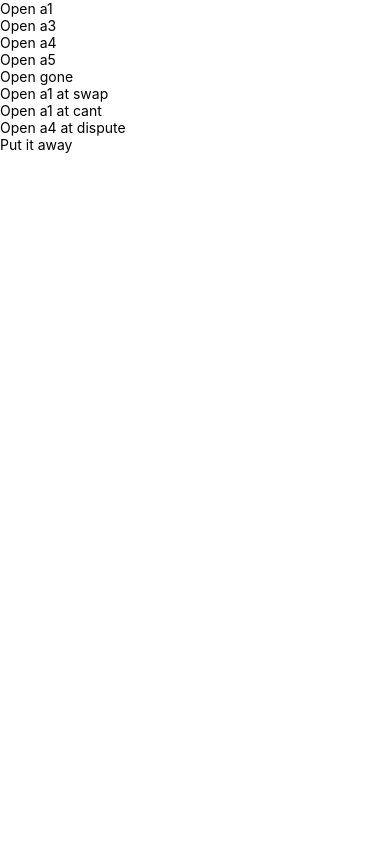
Test: your open John › swapping › offers the housemates' open Johns, and swaps for the one picked
Click the button "Open a1". click: (26, 8)
box: x1=0 y1=0 x2=389 y2=17
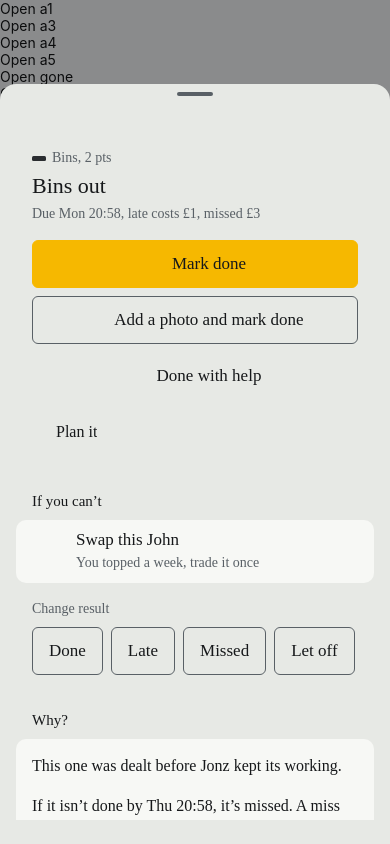
Click the element with test id "swap-row". click: (195, 551)
box: x1=16 y1=519 x2=374 y2=583
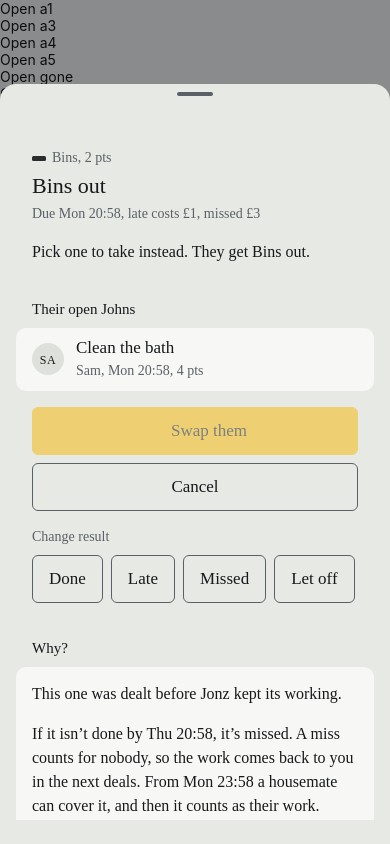
Check: the element named "Their open Johns" is shown
Check: the radio button with aria-label "Clean the bath, Sam, " is not checked
Check: the button with test id "swap-them" is disabled, box x1=32 y1=407 x2=358 y2=455
Click the radio button with aria-label "Clean the bath, Sam, ". click: (118, 358)
box: x1=32 y1=338 x2=204 y2=378
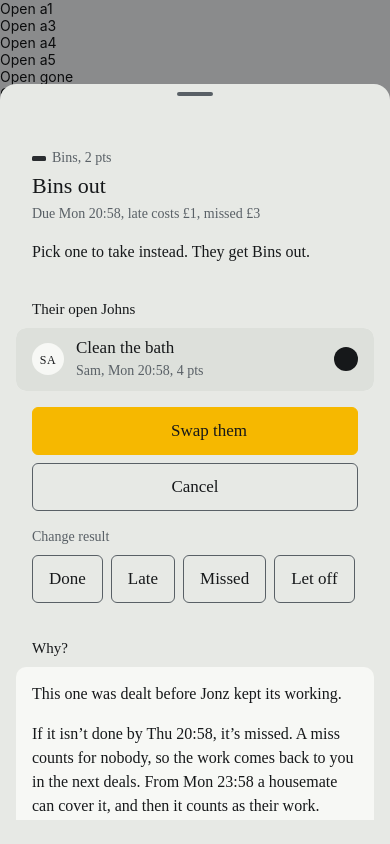
Check: the radio button with aria-label "Clean the bath, Sam, " is checked, box x1=32 y1=328 x2=358 y2=391
Check: the element with test id "swap-chosen" is shown, box x1=334 y1=347 x2=358 y2=371
Click the button "Swap them". click: (195, 431)
box: x1=32 y1=407 x2=358 y2=455
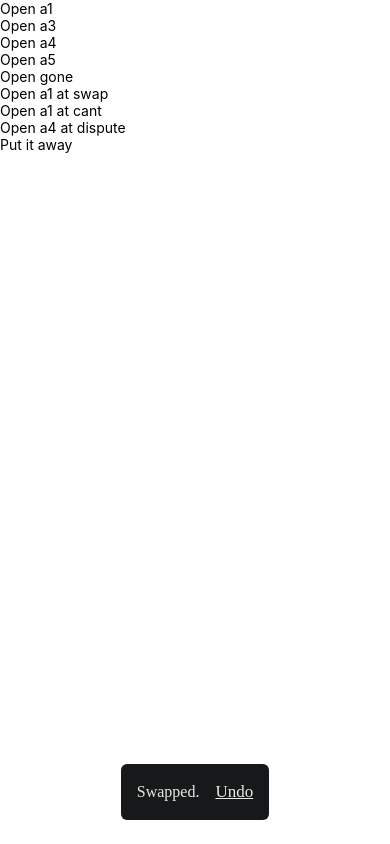
Check: the element with test id "john-sheet-body" is gone
